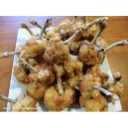chicken_lollipop: (45, 30, 83, 64), (46, 74, 76, 110), (20, 60, 55, 87), (82, 72, 114, 100), (2, 44, 43, 64), (19, 21, 54, 44), (88, 22, 105, 66), (1, 93, 37, 112), (58, 15, 90, 36)
